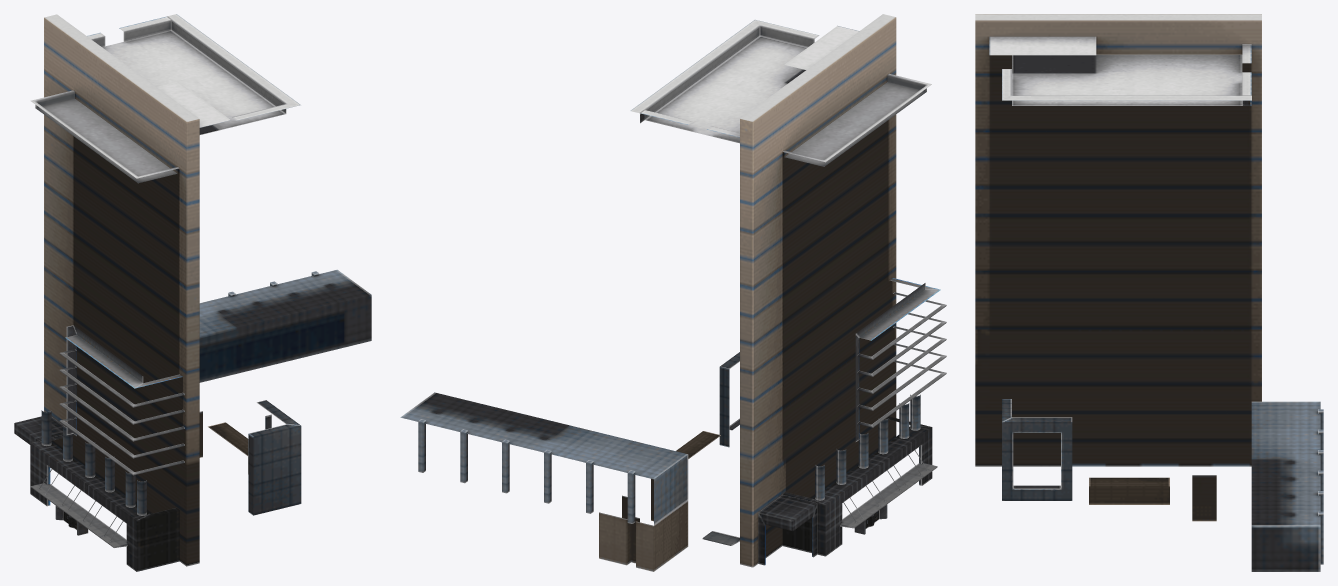
The picture shows the model from 3 angles, left to right: view 1: azimuth 30°, elevation 25°; view 2: azimuth 150°, elevation 25°; view 3: azimuth 270°, elevation 25°; orthographic projection.
Parts seen in each view (by area): view 1: 1010; view 2: 1010; view 3: 1010.
Part boxes in pixels (left/top/right/bottom): 1010: left=14, top=14, right=371, bottom=571; 1010: left=400, top=14, right=946, bottom=571; 1010: left=975, top=14, right=1323, bottom=571.
Bounding box in the file's own units: 116 × 130 × 91.89.
Materials: 1 (1 with a texture image).
